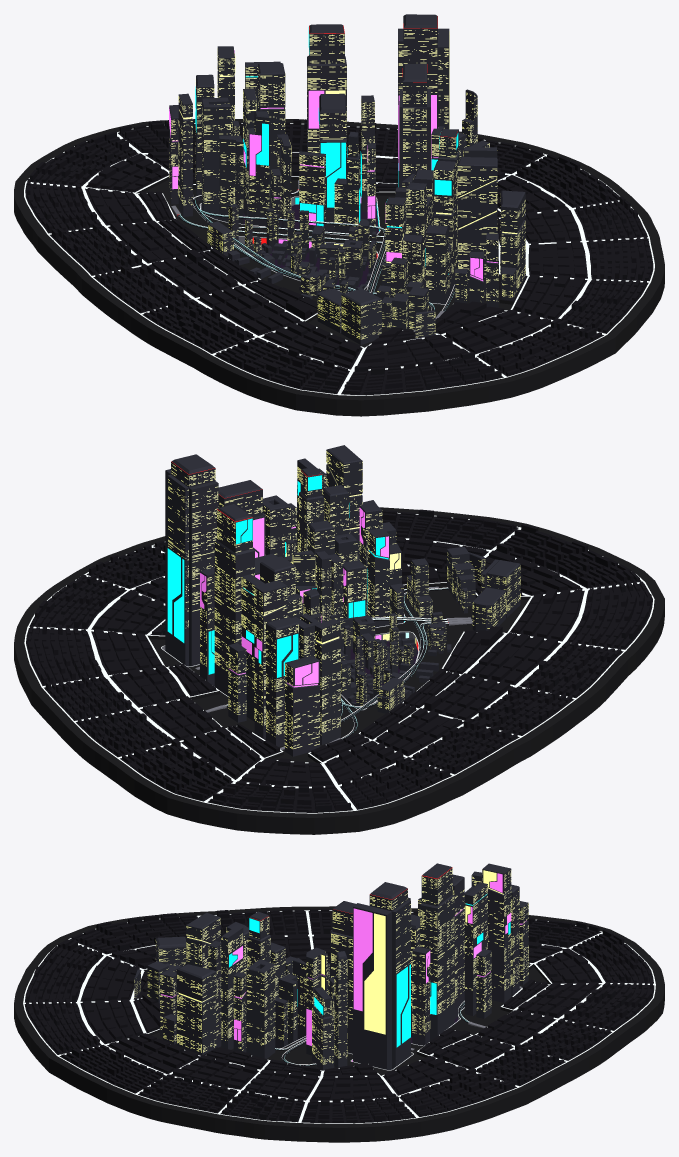
The picture shows the model from 3 angles, top to bottom: view 1: azimuth 30°, elevation 25°; view 2: azimuth 150°, elevation 25°; view 3: azimuth 270°, elevation 25°; orthographic projection. The views are drawn at different scales.
Visible parts, largest first — view 1: polySurface97, polySurface95, BL20, BL3, BL8 (×4), BL4, BL1, BL9 (×2), BL2, BL37, BL6, BL5 (+20 smaller); view 2: polySurface97, polySurface95, BL3, BL4, BL8 (×2), B23, BL14 (×2), BL42, BL21, BL20, BL1, BL9 (+17 smaller); view 3: polySurface97, BL3, BL4, BL8 (×2), BL28, BL26, BL9, BL29, BL1, BL14, BL34, BL45 (+22 smaller).
Part boxes in pixels (x1,y1,x2,y2): polySurface97: (14, 119, 664, 416); polySurface95: (207, 203, 467, 338); BL20: (457, 157, 497, 294); BL3: (398, 14, 449, 187); BL8 (×4): (217, 46, 484, 302); BL4: (307, 24, 347, 157); BL1: (398, 64, 430, 187); BL9 (×2): (243, 88, 325, 231); BL2: (318, 93, 346, 232); BL37: (202, 97, 230, 219); BL6: (248, 111, 269, 226); BL5: (258, 63, 285, 208); polySurface97: (14, 507, 664, 834); polySurface95: (322, 547, 485, 713); BL3: (165, 454, 218, 666); BL4: (214, 504, 254, 695); BL8 (×2): (254, 528, 389, 739); B23: (285, 655, 320, 756); BL14 (×2): (200, 560, 366, 686); BL42: (266, 617, 298, 746); BL21: (315, 619, 340, 745); BL20: (326, 445, 362, 555); BL1: (218, 480, 265, 557); BL9: (241, 574, 264, 721); polySurface97: (14, 906, 664, 1142); BL3: (353, 882, 410, 1069); BL4: (420, 863, 454, 1041); BL8 (×2): (233, 863, 511, 1052); BL28: (176, 964, 216, 1055); BL26: (246, 959, 275, 1058); BL9: (465, 882, 487, 1015); BL29: (221, 925, 243, 1049); BL1: (330, 901, 355, 1053); BL14: (412, 946, 430, 1045); BL34: (312, 987, 333, 1070); BL45: (334, 951, 347, 1068).
Bounding box in the file's own units: 4.75 × 2.06 × 5.9.
